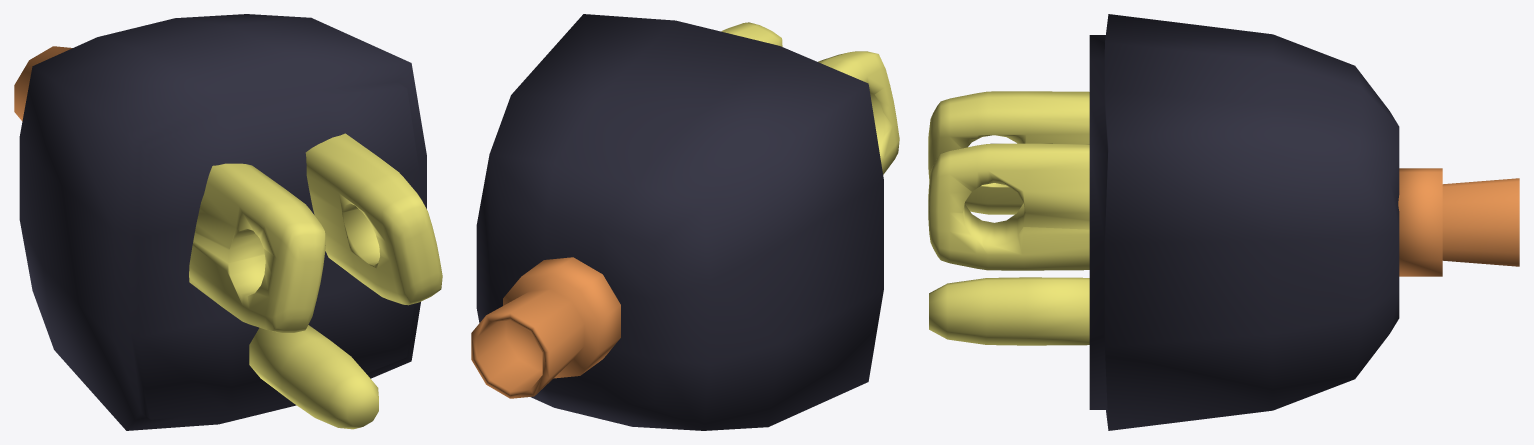
File: Plug.glb
3 renders of one model, left to right at view 1: azimuth 30°, elevation 25°; view 2: azimuth 150°, elevation 25°; view 3: azimuth 270°, elevation 25°, orthographic. The views are drawn at different scales.
Visible parts, largest first — view 1: Cube.001; view 2: Cube.001; view 3: Cube.001.
Boxes of the visible parts, x1,y1,x2,y2 form: Cube.001: [14, 14, 442, 430]; Cube.001: [471, 14, 899, 430]; Cube.001: [928, 14, 1519, 430].
Size of the model in its own units: 1.92 by 1.92 by 3.3.
